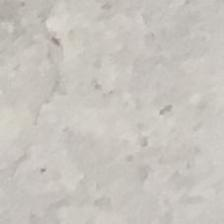Non_Crack: (5, 11, 224, 211)
